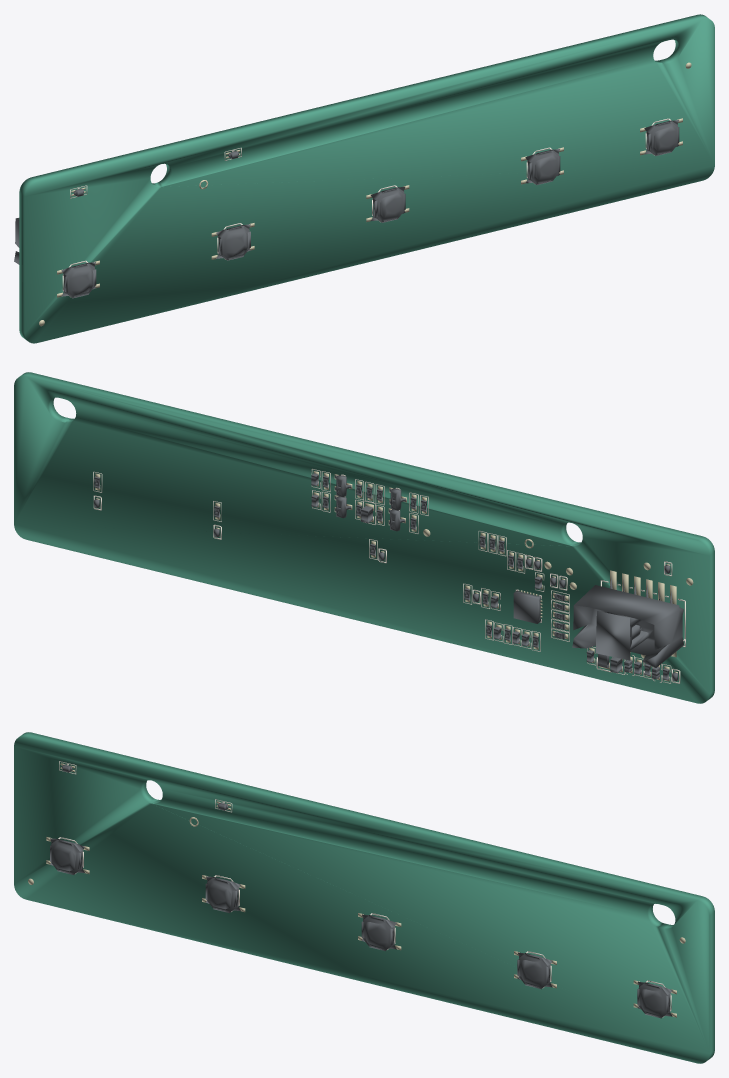
File: pcb-ui.glb
The picture shows the model from 3 angles, top to bottom: view 1: azimuth 30°, elevation 25°; view 2: azimuth 150°, elevation 25°; view 3: azimuth 330°, elevation 25°; orthographic projection.
Parts seen in each view (by area): view 1: pcb, body, pads; view 2: pcb, body, silk, pads; view 3: pcb, body, pads.
Boxes of the visible parts, x1=… form: pcb: x1=19, y1=14, x2=714, y2=343; body: x1=14, y1=119, x2=679, y2=298; pads: x1=39, y1=62, x2=691, y2=326; pcb: x1=14, y1=372, x2=714, y2=703; body: x1=94, y1=473, x2=683, y2=681; silk: x1=93, y1=468, x2=685, y2=683; pads: x1=95, y1=471, x2=693, y2=681; pcb: x1=14, y1=732, x2=714, y2=1063; body: x1=50, y1=764, x2=672, y2=1018; pads: x1=28, y1=763, x2=685, y2=1017.
Bounding box in the file's own units: 116 × 26 × 11.66.
